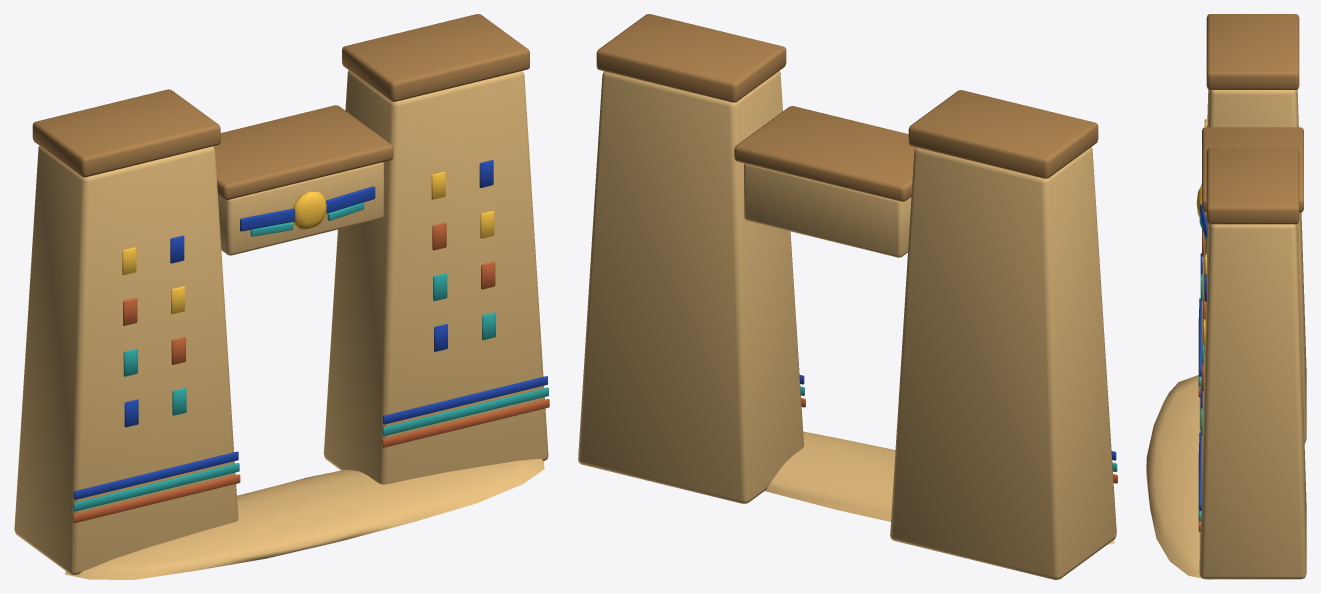
The model's file is TempleGate.fbx.
The picture shows the model from 3 angles, left to right: view 1: azimuth 30°, elevation 25°; view 2: azimuth 150°, elevation 25°; view 3: azimuth 270°, elevation 25°; orthographic projection. The views are drawn at different scales.
Parts seen in each view (by area): view 1: TempleGate; view 2: TempleGate; view 3: TempleGate.
Part boxes in pixels (bbox=[...]): TempleGate: bbox=[14, 14, 549, 579]; TempleGate: bbox=[578, 14, 1117, 579]; TempleGate: bbox=[1146, 14, 1306, 579].
Bounding box in the file's own units: 11.02 × 9.05 × 3.58.
Materials: 1 (1 with a texture image).
